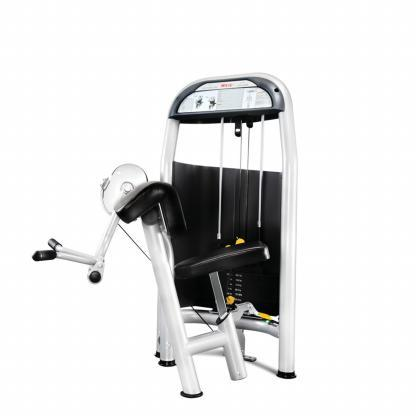arm curl machine: (33, 73, 298, 399)
